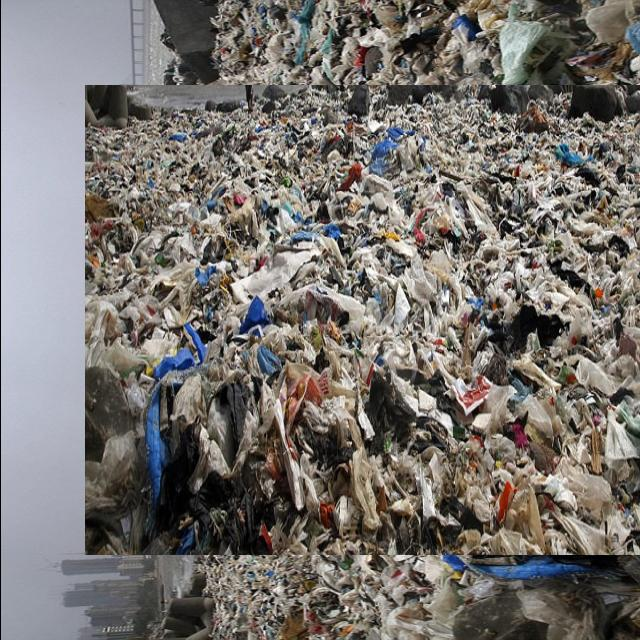garbage: (126, 43, 640, 598)
